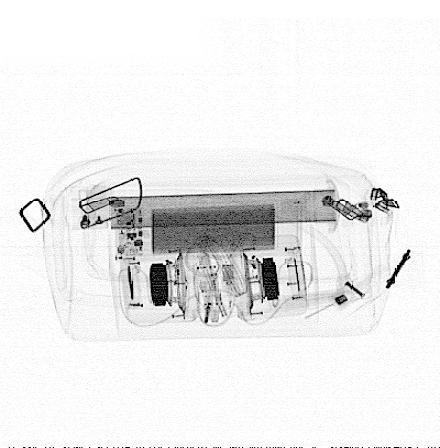Powerbank: (113, 199, 304, 262)
